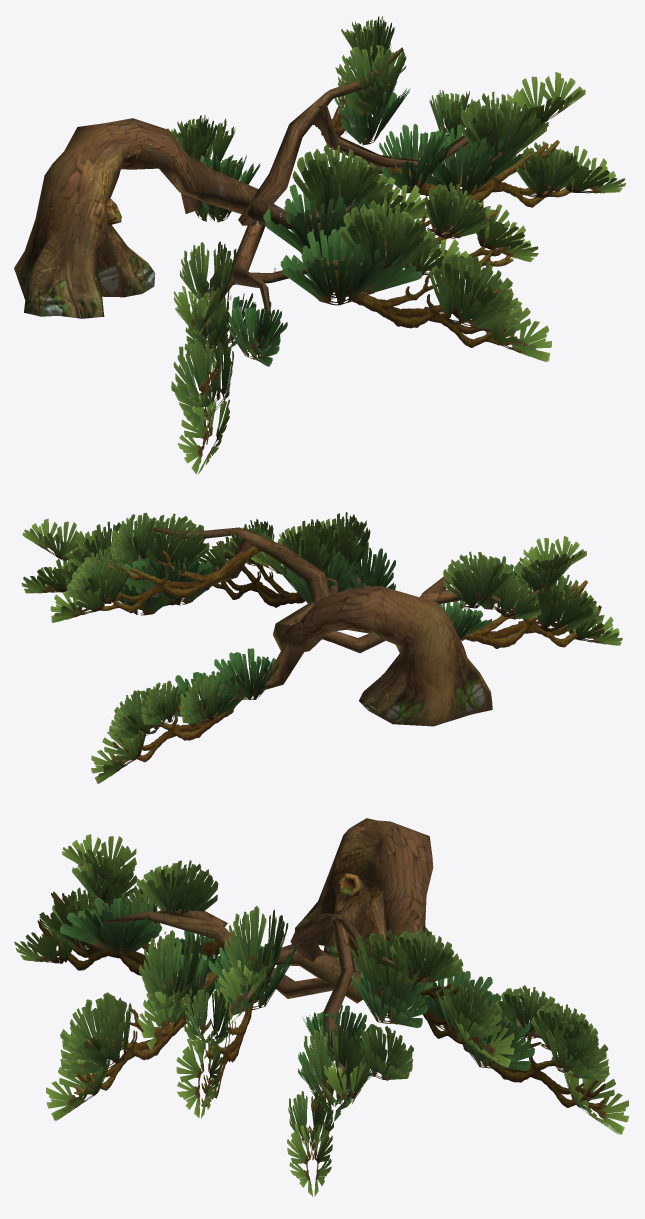
Rendered from songshu_02.FBX.
3 renders of one model, top to bottom at view 1: azimuth 30°, elevation 25°; view 2: azimuth 150°, elevation 25°; view 3: azimuth 270°, elevation 25°, orthographic. The views are drawn at different scales.
Parts seen in each view (by area): view 1: songshu_02; view 2: songshu_02; view 3: songshu_02.
Boxes of the visible parts, x1,y1,x2,y2 form: songshu_02: (14, 16, 625, 474); songshu_02: (21, 512, 622, 783); songshu_02: (14, 818, 628, 1196).
Bounding box in the file's own units: 1094 × 426 × 1021.
